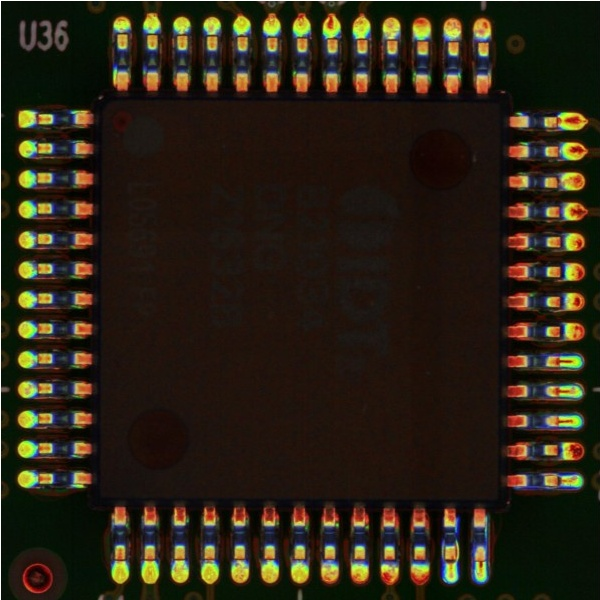Bad_podu: (550, 355, 573, 364), (548, 416, 572, 424), (548, 386, 571, 394), (549, 476, 571, 483), (476, 553, 485, 568), (445, 557, 454, 571)
Bad_qiaojiao: (454, 536, 458, 560), (440, 536, 444, 559)
